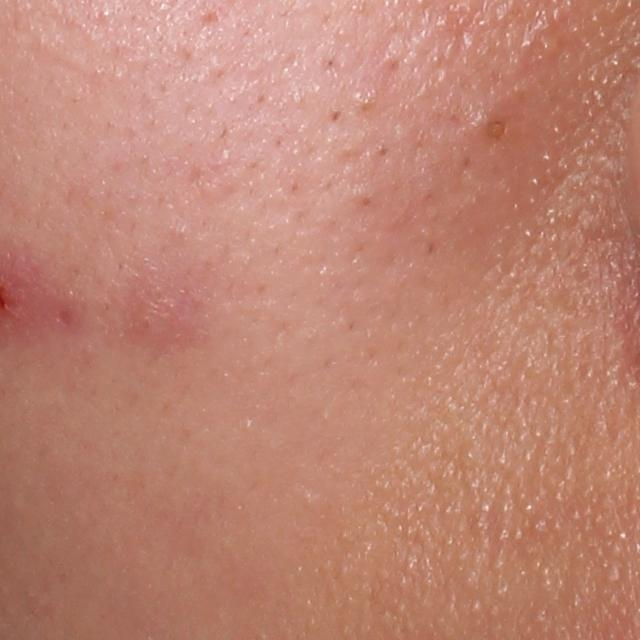comedo: (481, 115, 510, 146)
